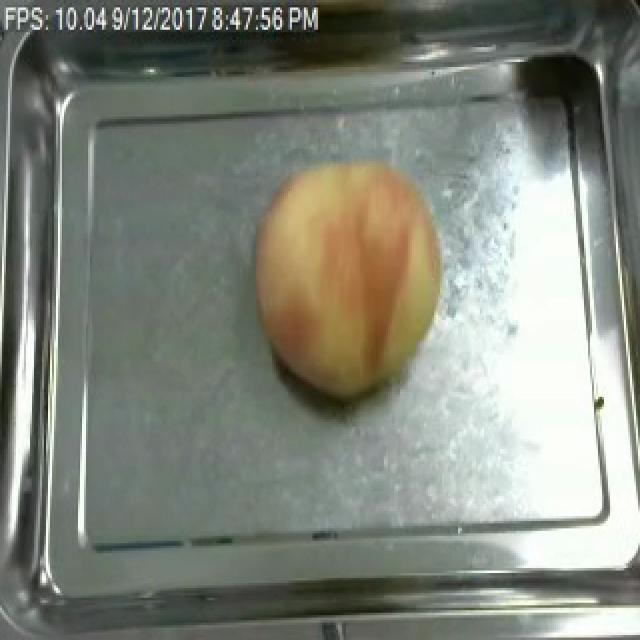Fruit: (246, 146, 454, 410)
